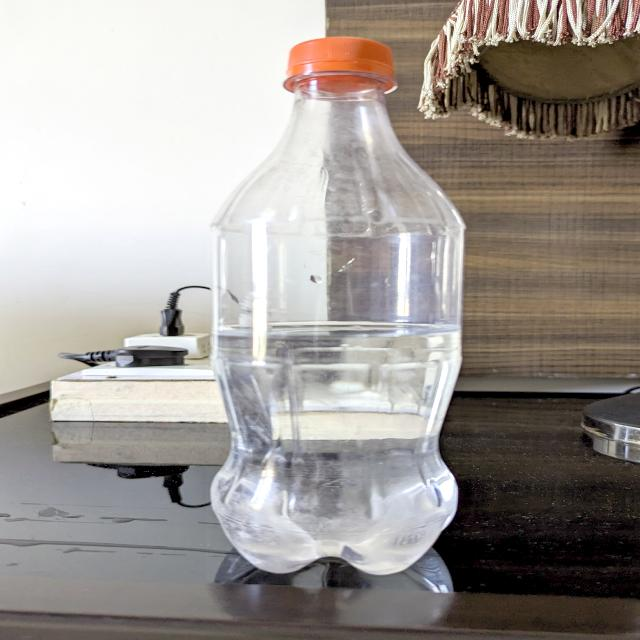half-bottle: (207, 34, 460, 580)
